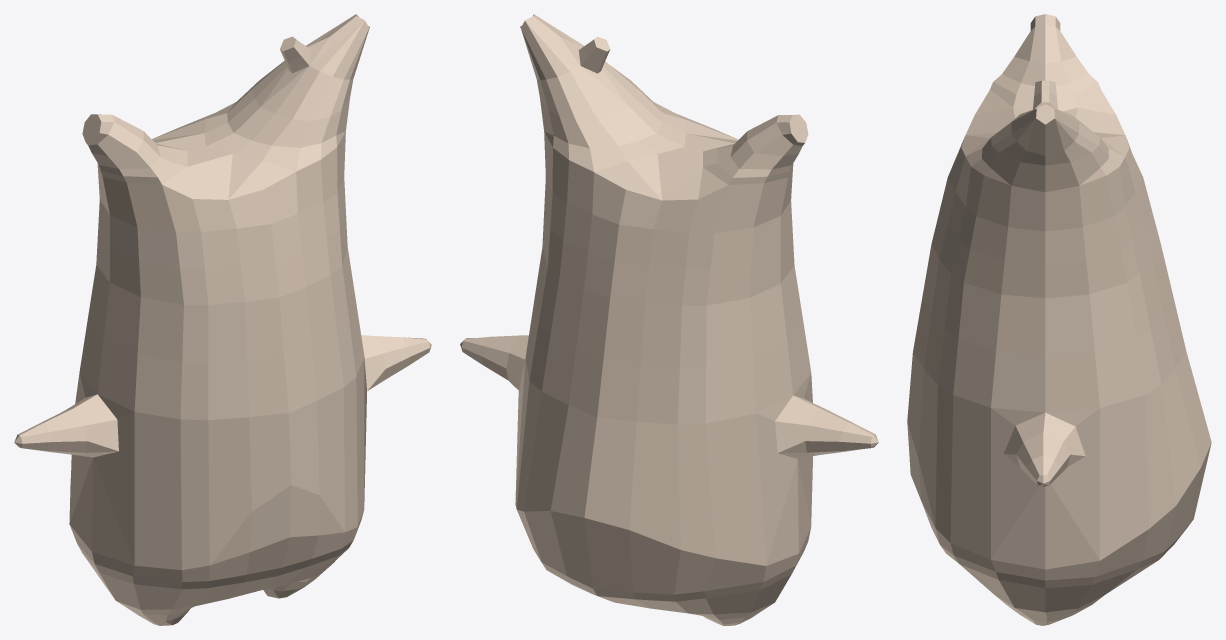
File: frame_0158.obj
3 renders of one model, left to right at view 1: azimuth 30°, elevation 25°; view 2: azimuth 150°, elevation 25°; view 3: azimuth 270°, elevation 25°, orthographic.
Parts seen in each view (by area): view 1: korok; view 2: korok; view 3: korok.
Boxes of the visible parts, x1,y1,x2,y2 form: korok: [14, 14, 431, 625]; korok: [460, 14, 878, 625]; korok: [907, 14, 1211, 625].
Size of the model in its own units: 1.68 by 2.16 by 1.07.
